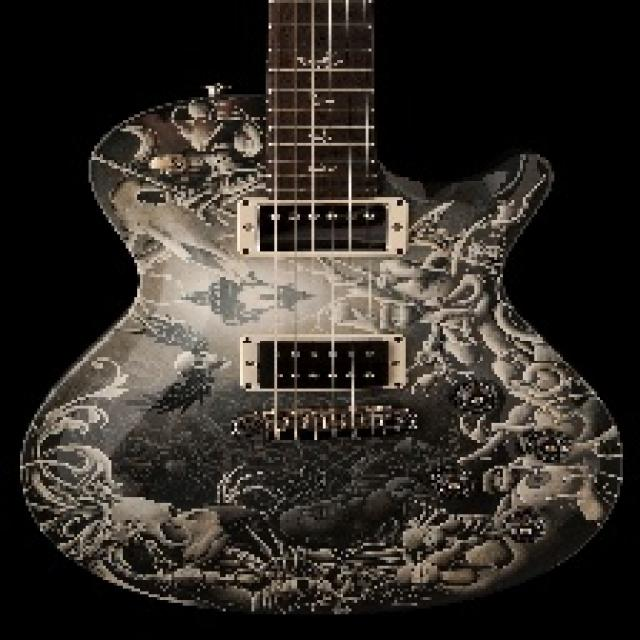guitar: (22, 1, 624, 616)
